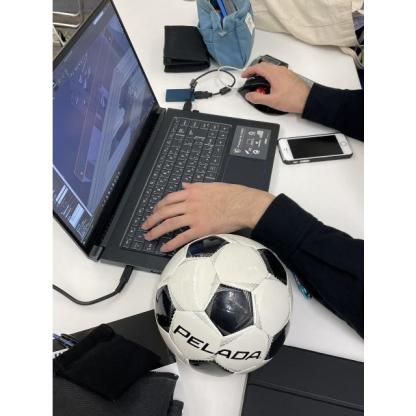ball: (151, 235, 292, 377)
